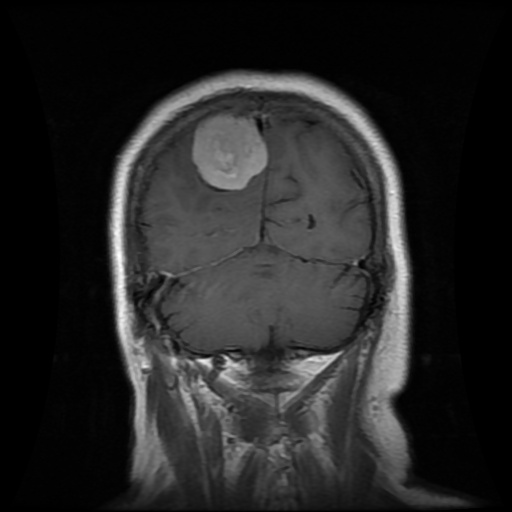meningioma: (192, 111, 268, 190)
